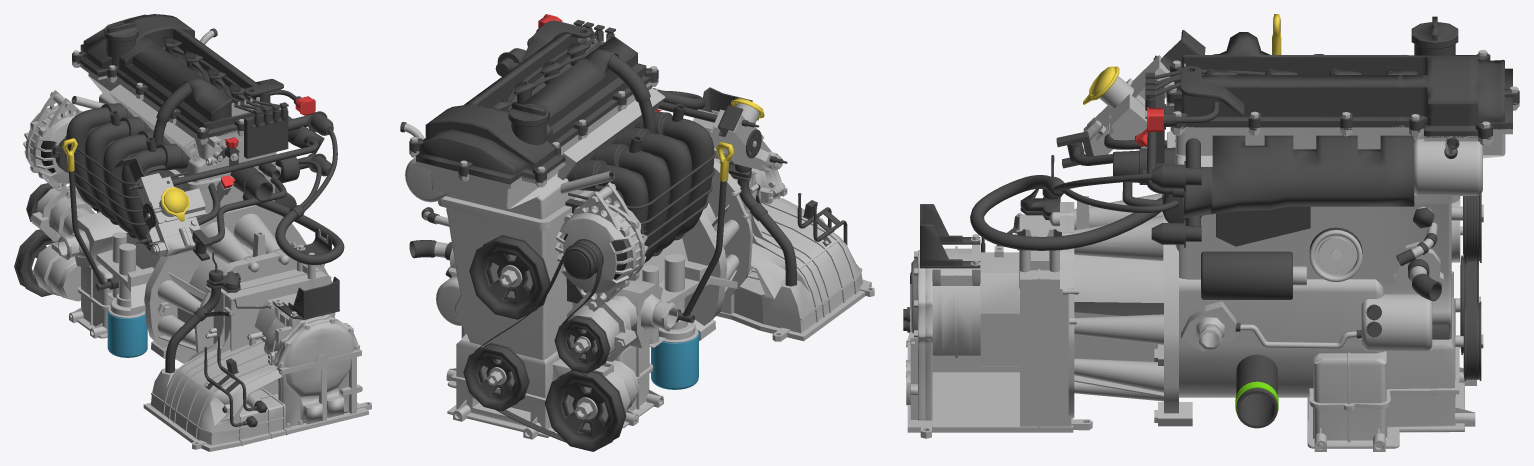
Rendered from motor.glb.
3 renders of one model, left to right at view 1: azimuth 30°, elevation 25°; view 2: azimuth 150°, elevation 25°; view 3: azimuth 270°, elevation 25°, orthographic. The views are drawn at different scales.
Parts seen in each view (by area): view 1: kappa_engine_metal_silver, kappa_engine_plastic_black, kappa_engine_metal_black, kappa_engine_metal_silver0, kappa_engine_metal_silver1, kappa_engine_metal_blue, kappa_engine_yellow_metal, kappa_engine_metal_red, kappa_engine_metal_black0; view 2: kappa_engine_metal_silver, kappa_engine_plastic_black, kappa_engine_metal_black, kappa_engine_metal_blue, kappa_engine_yellow_metal, kappa_engine_plastic_black0, kappa_engine_metal_silver4, kappa_engine_metal_silver2; view 3: kappa_engine_metal_silver, kappa_engine_plastic_black, kappa_engine_metal_black, kappa_engine_metal_silver2, kappa_engine_metal_silver0, kappa_engine_metal_black1, kappa_engine_plastic_black0, kappa_engine_yellow_metal.
Part boxes in pixels (left/top/right/bottom): kappa_engine_metal_silver: left=23, top=50, right=371, bottom=451; kappa_engine_plastic_black: left=17, top=14, right=324, bottom=282; kappa_engine_metal_black: left=14, top=79, right=344, bottom=427; kappa_engine_metal_silver0: left=273, top=314, right=359, bottom=427; kappa_engine_metal_silver1: left=288, top=325, right=353, bottom=394; kappa_engine_metal_blue: left=107, top=309, right=147, bottom=357; kappa_engine_yellow_metal: left=62, top=138, right=189, bottom=221; kappa_engine_metal_red: left=220, top=96, right=315, bottom=188; kappa_engine_metal_black0: left=295, top=228, right=331, bottom=254; kappa_engine_metal_silver: left=405, top=37, right=874, bottom=439; kappa_engine_plastic_black: left=409, top=25, right=787, bottom=442; kappa_engine_metal_black: left=444, top=20, right=847, bottom=451; kappa_engine_metal_blue: left=651, top=332, right=698, bottom=389; kappa_engine_yellow_metal: left=716, top=98, right=764, bottom=181; kappa_engine_plastic_black0: left=400, top=122, right=439, bottom=258; kappa_engine_metal_silver4: left=560, top=171, right=614, bottom=193; kappa_engine_metal_silver2: left=404, top=123, right=449, bottom=257; kappa_engine_metal_silver: left=906, top=50, right=1519, bottom=451; kappa_engine_plastic_black: left=1056, top=16, right=1519, bottom=378; kappa_engine_metal_black: left=903, top=30, right=1481, bottom=380; kappa_engine_metal_silver2: left=1240, top=136, right=1455, bottom=348; kappa_engine_metal_silver0: left=906, top=250, right=932, bottom=420; kappa_engine_metal_black1: left=1236, top=354, right=1277, bottom=428; kappa_engine_plastic_black0: left=1235, top=137, right=1459, bottom=338; kappa_engine_yellow_metal: left=1083, top=14, right=1281, bottom=104.
Size of the model in its own units: 1.26 by 1.36 by 2.07.
